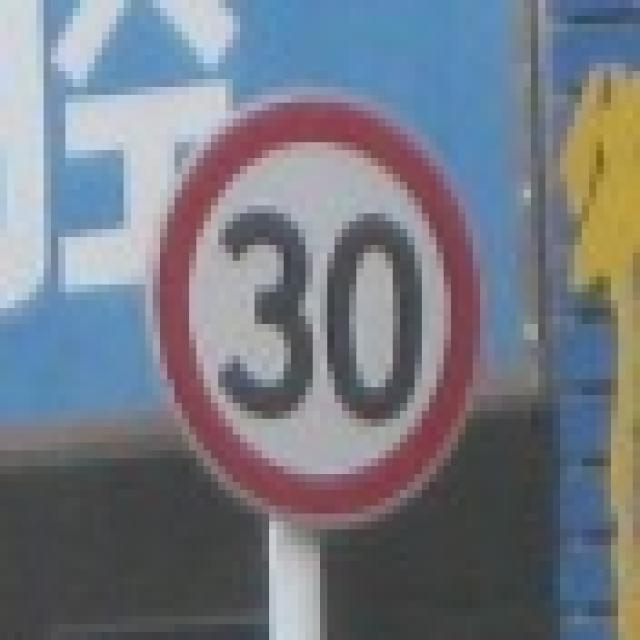Speed Limit -30-: (216, 202, 425, 423)
